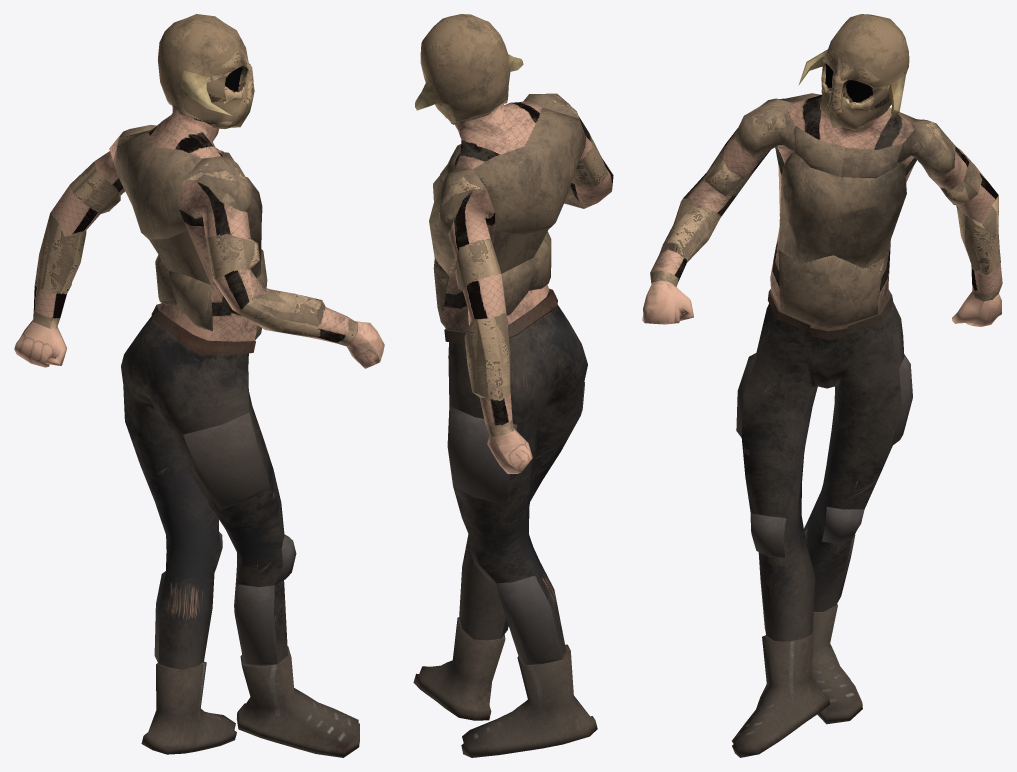
File: Anim_ataque_f3_npc1.0037.obj
3 renders of one model, left to right at view 1: azimuth 30°, elevation 25°; view 2: azimuth 150°, elevation 25°; view 3: azimuth 270°, elevation 25°, orthographic. The views are drawn at different scales.
Parts seen in each view (by area): view 1: NPC2; view 2: NPC2; view 3: NPC2.
Boxes of the visible parts, bbox=[...] form: NPC2: bbox=[14, 14, 384, 757]; NPC2: bbox=[413, 14, 613, 757]; NPC2: bbox=[642, 14, 1002, 757].
Bounding box in the file's own units: 3.24 × 9.62 × 4.49.
